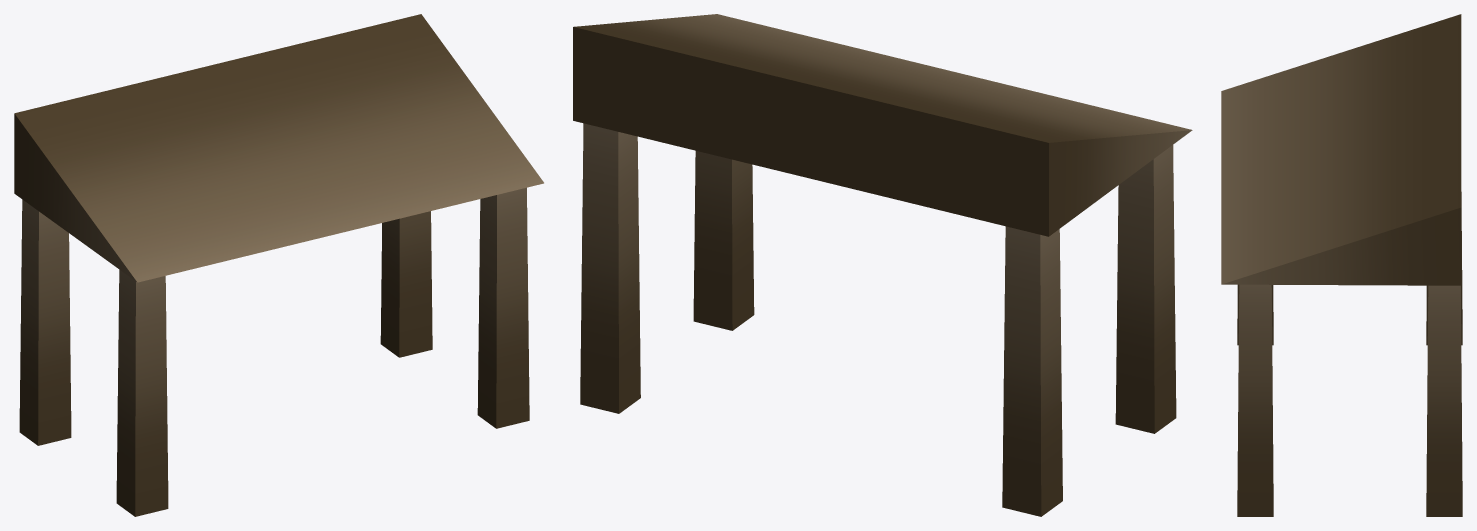
The model's file is MarketStall_Pillars.gltf.
3 renders of one model, left to right at view 1: azimuth 30°, elevation 25°; view 2: azimuth 150°, elevation 25°; view 3: azimuth 270°, elevation 25°, orthographic. The views are drawn at different scales.
Visible parts, largest first — view 1: MarketStall_Pillars; view 2: MarketStall_Pillars; view 3: MarketStall_Pillars.
Boxes of the visible parts, x1,y1,x2,y2 form: MarketStall_Pillars: (14, 14, 543, 516); MarketStall_Pillars: (573, 14, 1192, 516); MarketStall_Pillars: (1221, 14, 1462, 516).
Size of the model in its own units: 2.7 by 2.03 by 1.42.
Materials: 1 (1 with a texture image).
